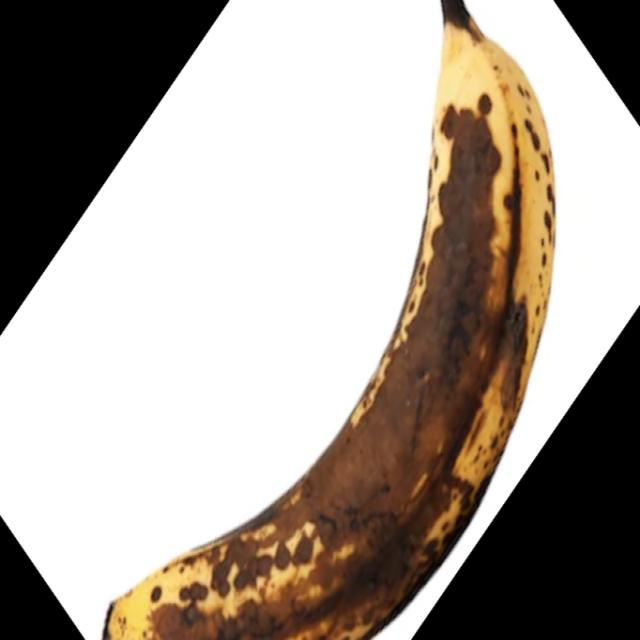overripe: (97, 0, 563, 640)
